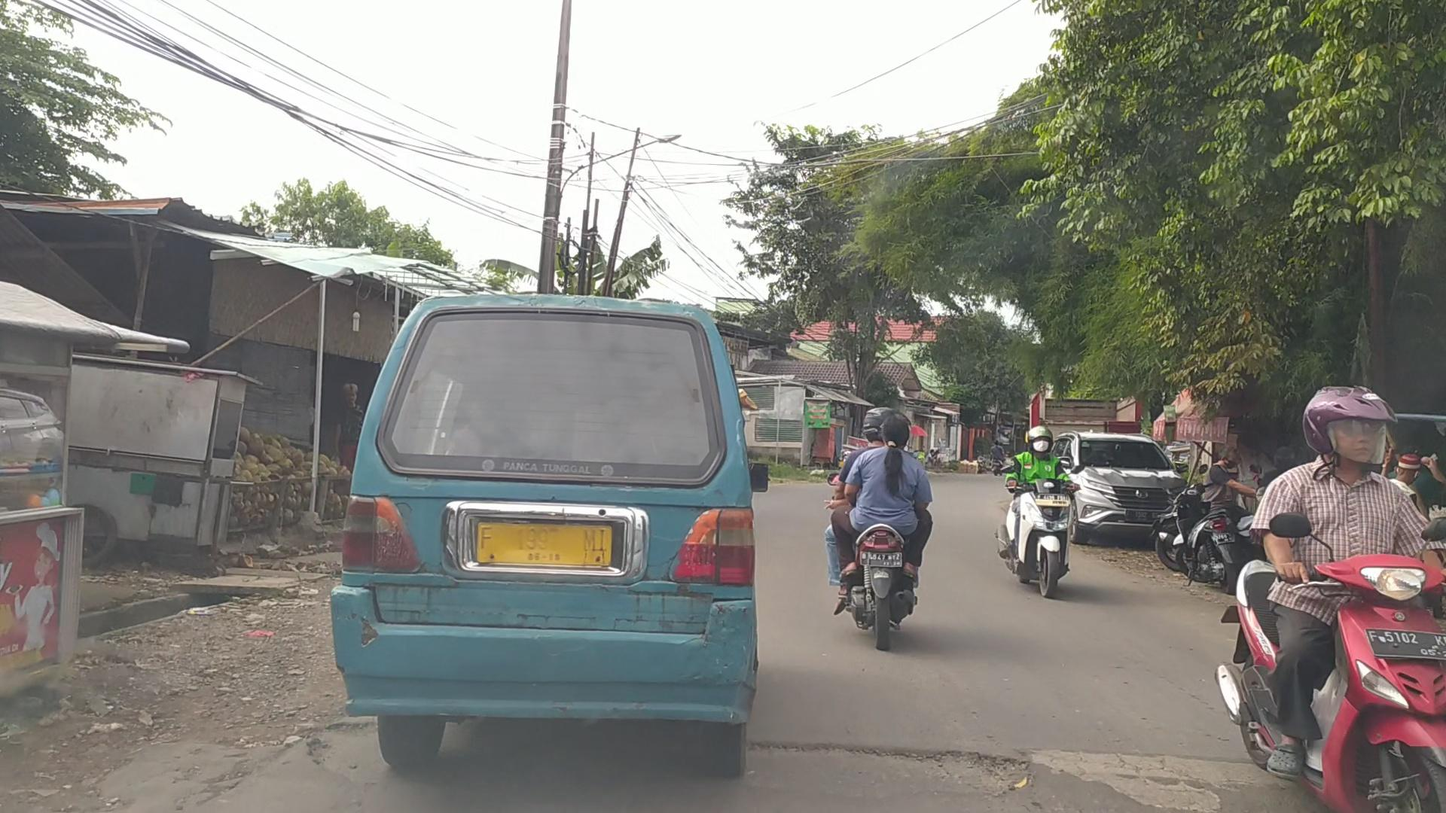pothole: (747, 737, 1038, 800), (304, 721, 392, 783)
